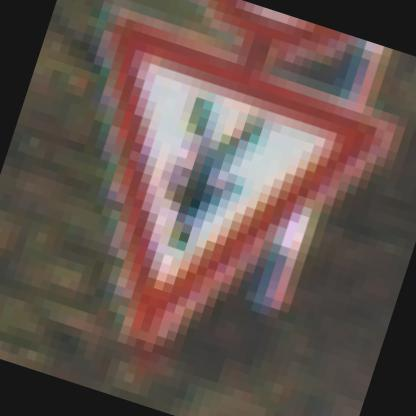crosswalk: (0, 0, 412, 396)
